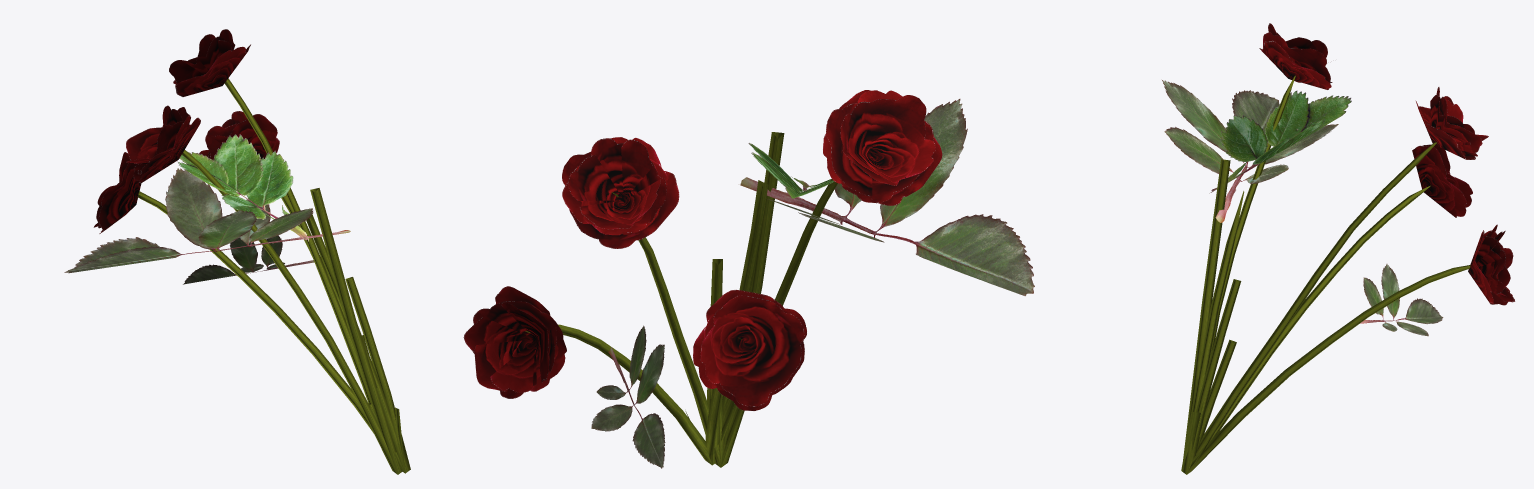
File: Rose plant.fbx
3 views of the same model, side by side, from view 1: azimuth 30°, elevation 25°; view 2: azimuth 150°, elevation 25°; view 3: azimuth 270°, elevation 25° (orthographic). The views are drawn at different scales.
Parts seen in each view (by area): view 1: polySurface2832; view 2: polySurface2832; view 3: polySurface2832.
Part boxes in pixels (x1,y1,x2,y2): polySurface2832: (64,29,410,474); polySurface2832: (463,90,1034,468); polySurface2832: (1162,23,1515,474).
Bounding box in the file's own units: 81.23 × 78.83 × 77.75.
3 materials, 3 textured.
